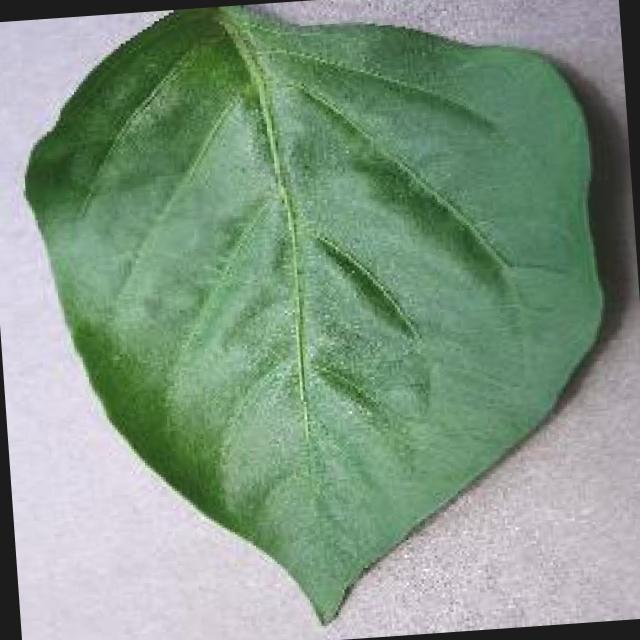healthy: (28, 7, 601, 623)
